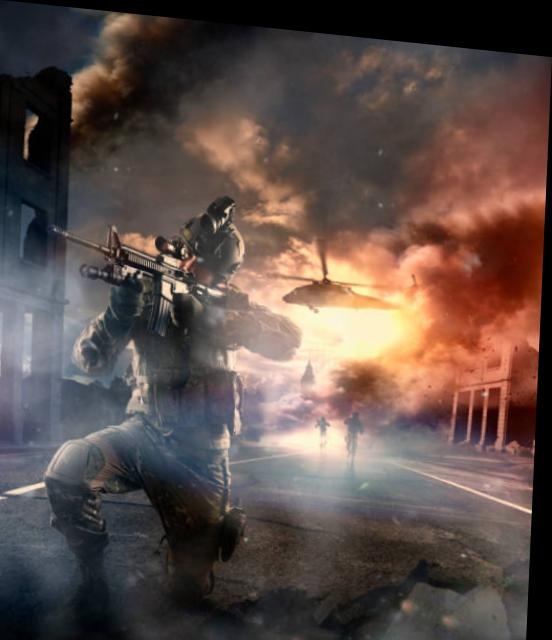other: (56, 203, 248, 612)
